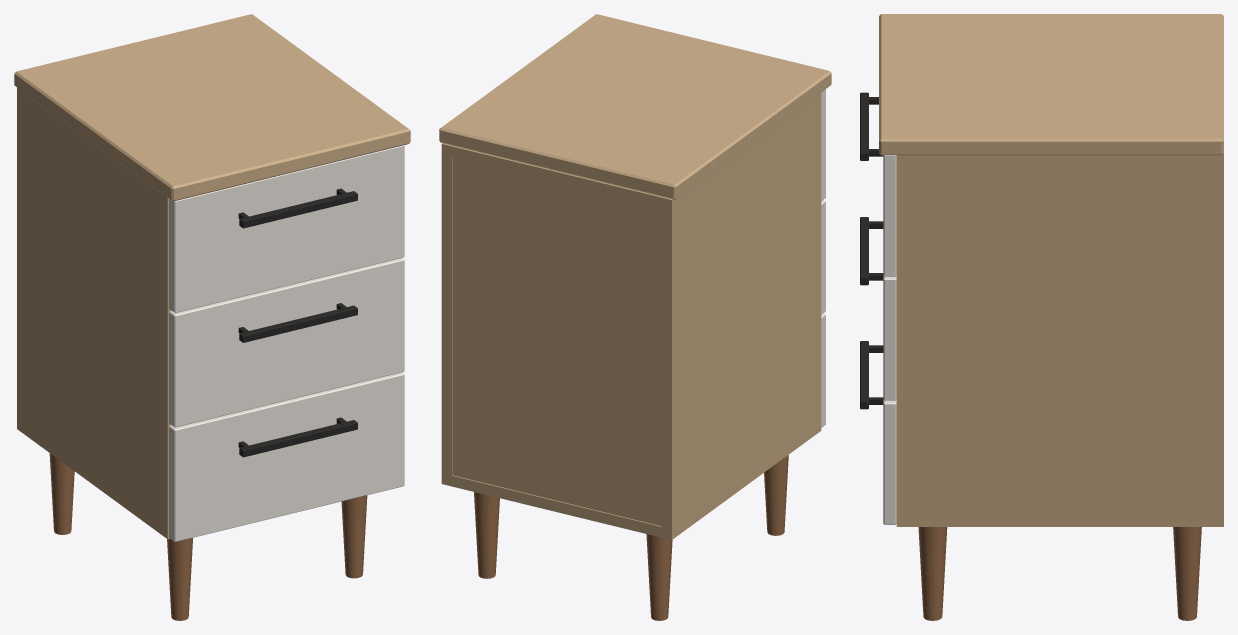
The model's file is 01_komoda_40_3sz.glb.
3 renders of one model, left to right at view 1: azimuth 30°, elevation 25°; view 2: azimuth 150°, elevation 25°; view 3: azimuth 270°, elevation 25°, orthographic. The views are drawn at different scales.
Visible parts, largest first — view 1: Korpus, Wierzch, Front_szuflada_3, Front_szuflada_2, Front_szuflada_1, Nogi, Uchwyty; view 2: Korpus, Wierzch, Nogi, Front_szuflada_2, Front_szuflada_3, Front_szuflada_1; view 3: Korpus, Wierzch, Nogi, Uchwyty, Front_szuflada_2, Front_szuflada_3, Front_szuflada_1.
Part boxes in pixels (x1,y1,x2,y2): Korpus: (17,87,171,539); Wierzch: (14,14,410,201); Front_szuflada_3: (169,372,404,541); Front_szuflada_2: (169,258,404,427); Front_szuflada_1: (169,145,404,312); Nogi: (49,453,367,620); Uchwyty: (238,188,357,457); Korpus: (441,92,821,539); Wierzch: (439,14,831,199); Nogi: (474,455,788,620); Front_szuflada_2: (821,200,825,314); Front_szuflada_3: (821,313,825,427); Front_szuflada_1: (821,89,825,200); Korpus: (896,153,1223,526); Wierzch: (879,14,1223,155); Nogi: (918,527,1201,620); Uchwyty: (860,92,883,409); Front_szuflada_2: (883,276,896,400); Front_szuflada_3: (883,400,896,524); Front_szuflada_1: (883,155,896,276).
Bounding box in the file's own units: 0.412 × 0.75 × 0.5.
